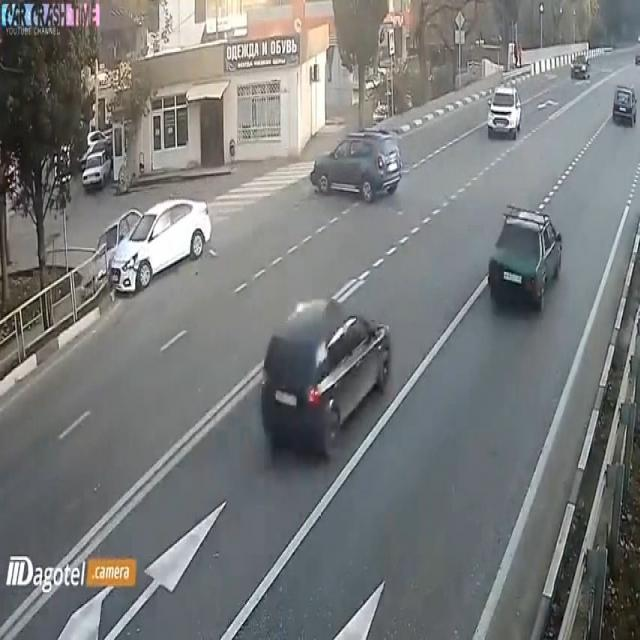Accident: (102, 195, 225, 280)
